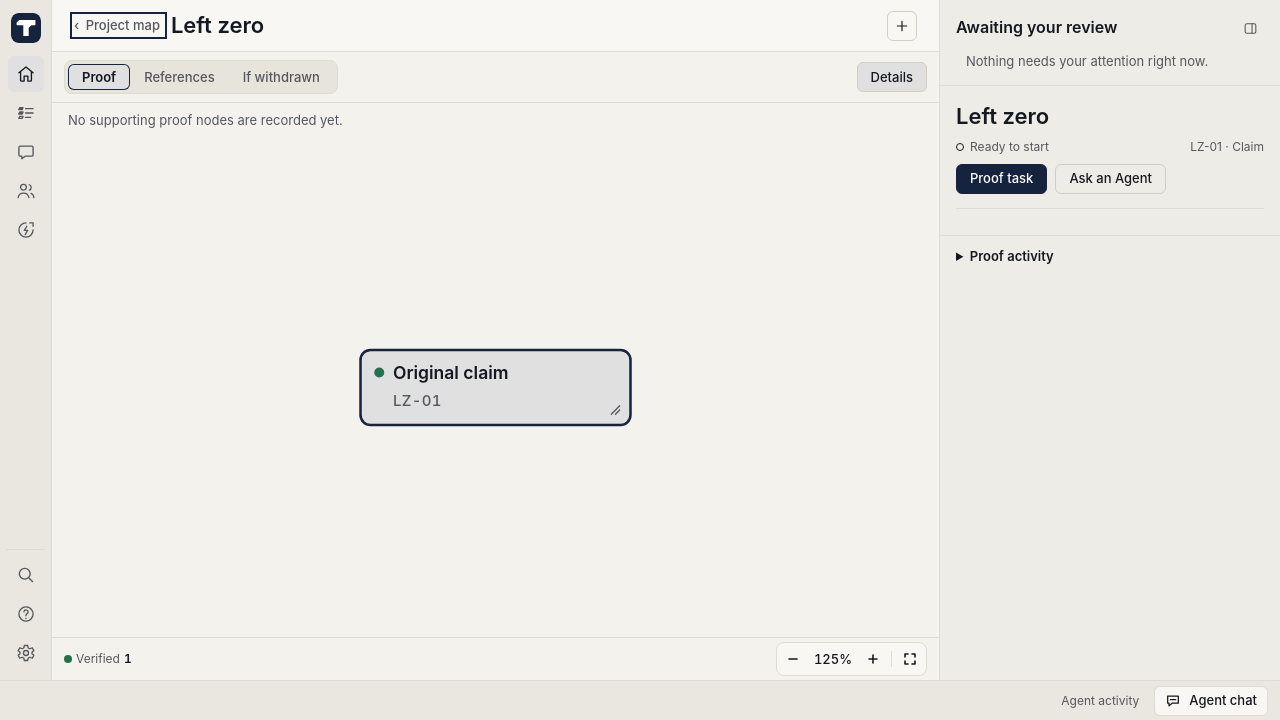
Test: App › re-reads proof state and the graph once after overlapping events and resumes from the applied batch
Click the button "Proof task".
click(1002, 179)  # box [956, 164, 1047, 194]
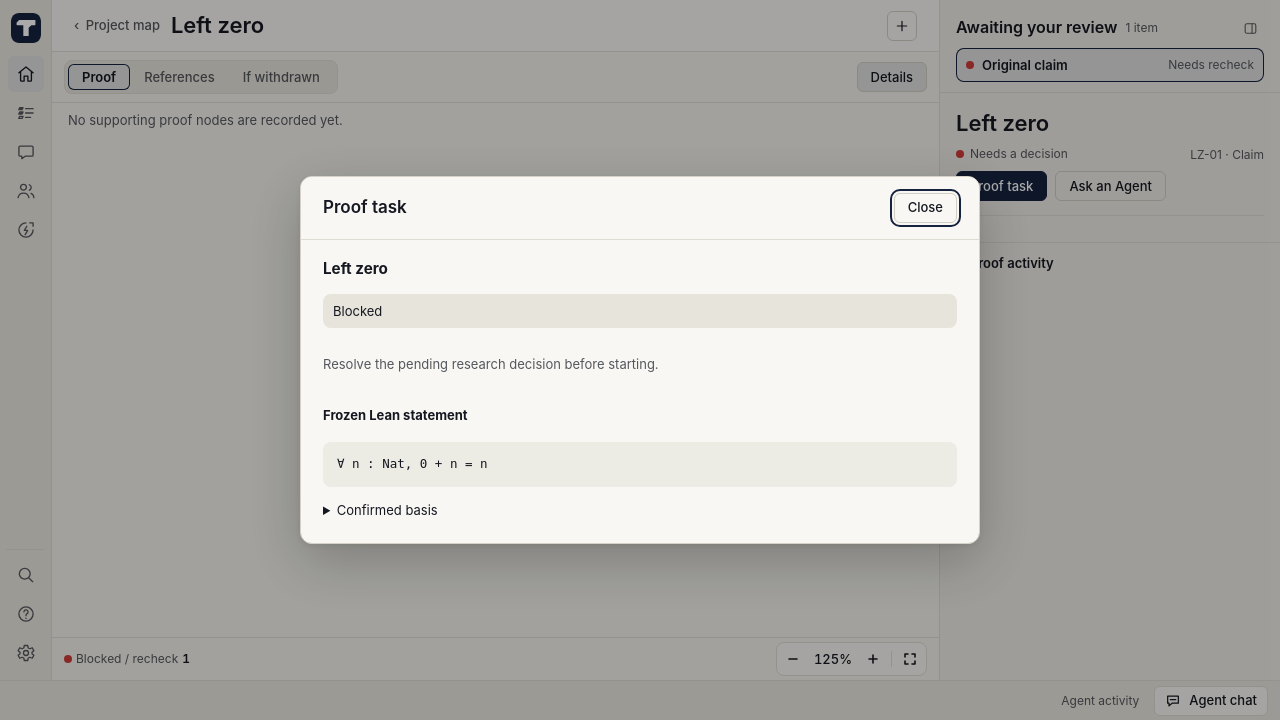
Check: the text "Blocked" is shown, box [323, 294, 957, 328]
Check: the text "Resolve the pending research decision before starting." is shown, box [323, 356, 659, 372]
Check: the text "Needs recheck" is shown, box [1168, 56, 1254, 74]
